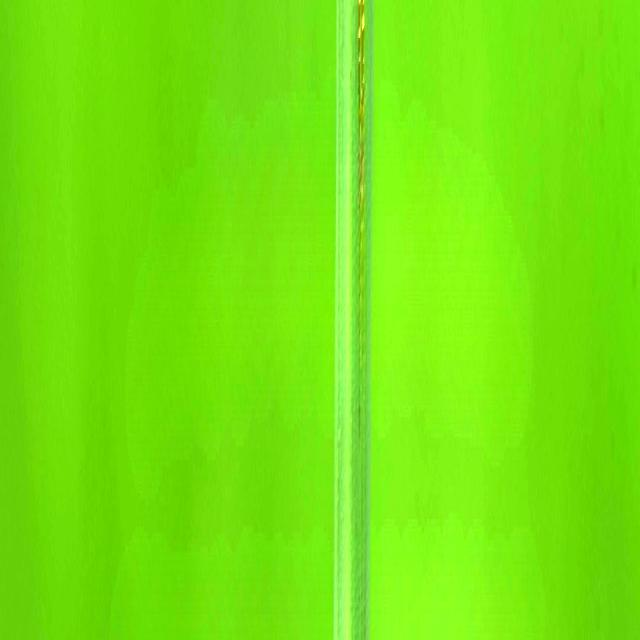BLS: (358, 0, 366, 219)
